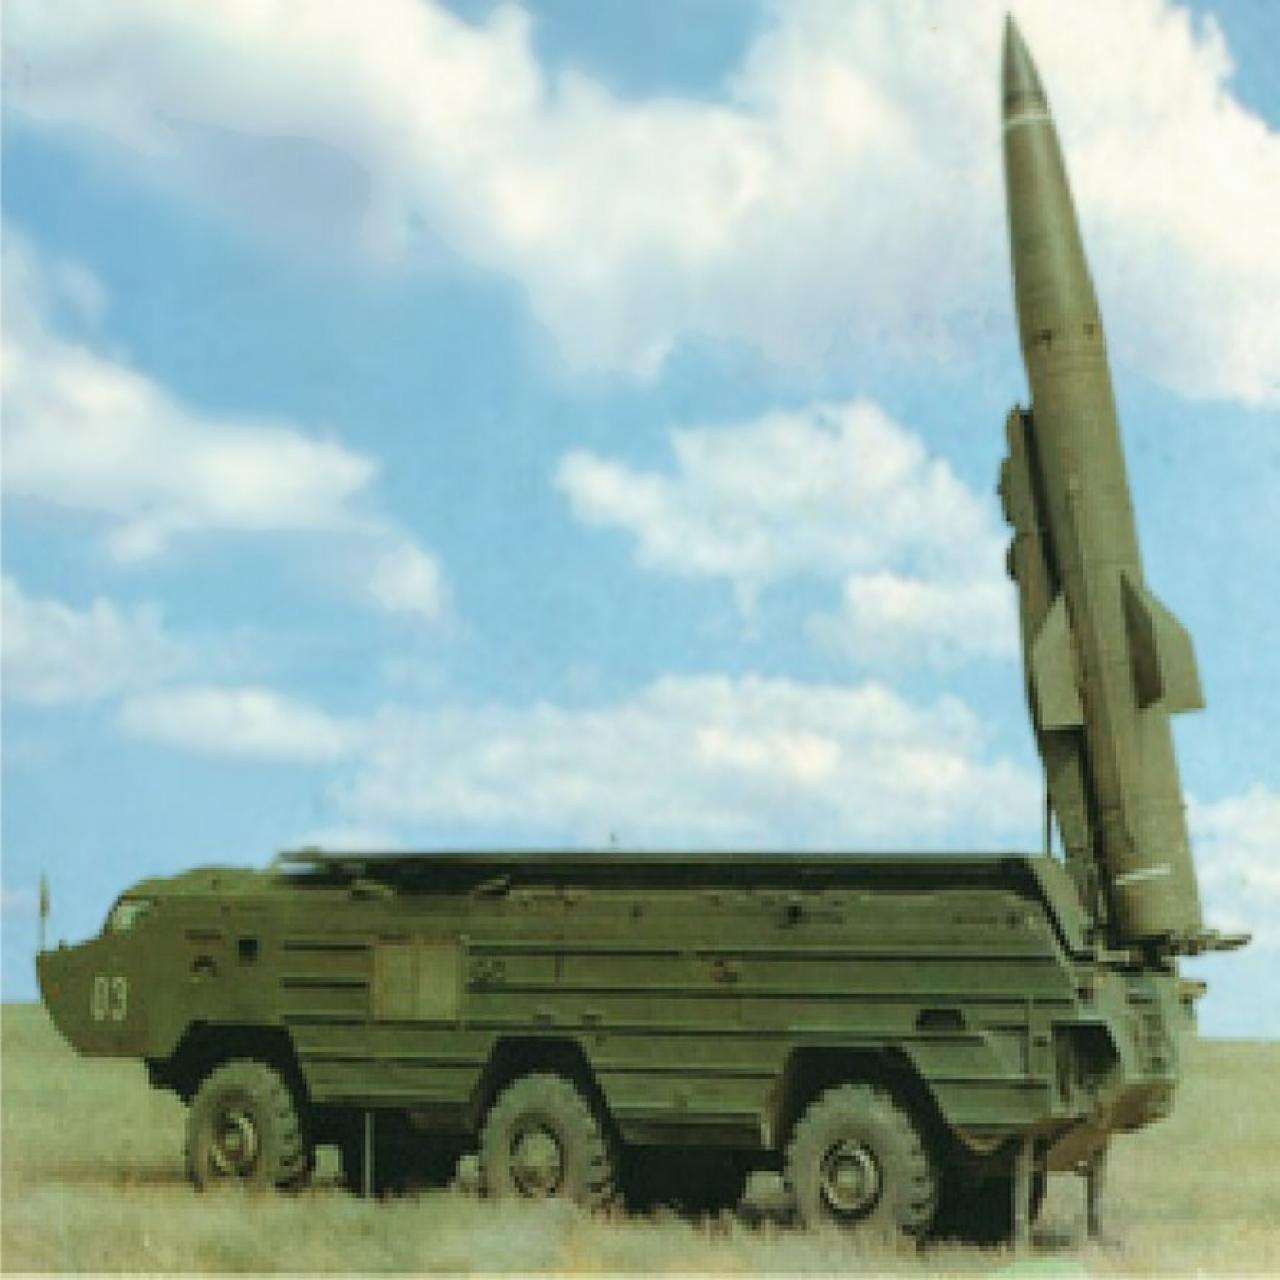MIL_Veh: (41, 5, 1203, 1246)
